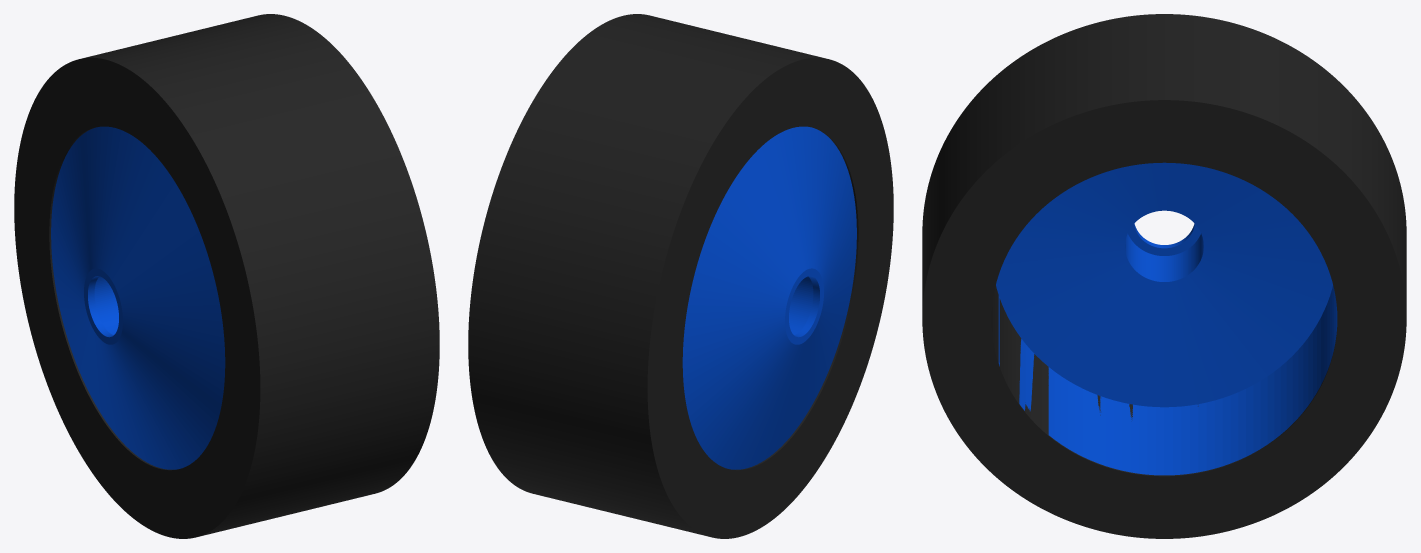
Rendered from wheel3.dae.
3 renders of one model, left to right at view 1: azimuth 30°, elevation 25°; view 2: azimuth 150°, elevation 25°; view 3: azimuth 270°, elevation 25°, orthographic.
Visible parts, largest first — view 1: wheel3.001; view 2: wheel3.001; view 3: wheel3.001.
Boxes of the visible parts, x1=… form: wheel3.001: x1=14, y1=14, x2=439, y2=538; wheel3.001: x1=468, y1=14, x2=893, y2=538; wheel3.001: x1=922, y1=14, x2=1406, y2=538.
Bounding box in the file's own units: 31.5 × 63 × 63.
